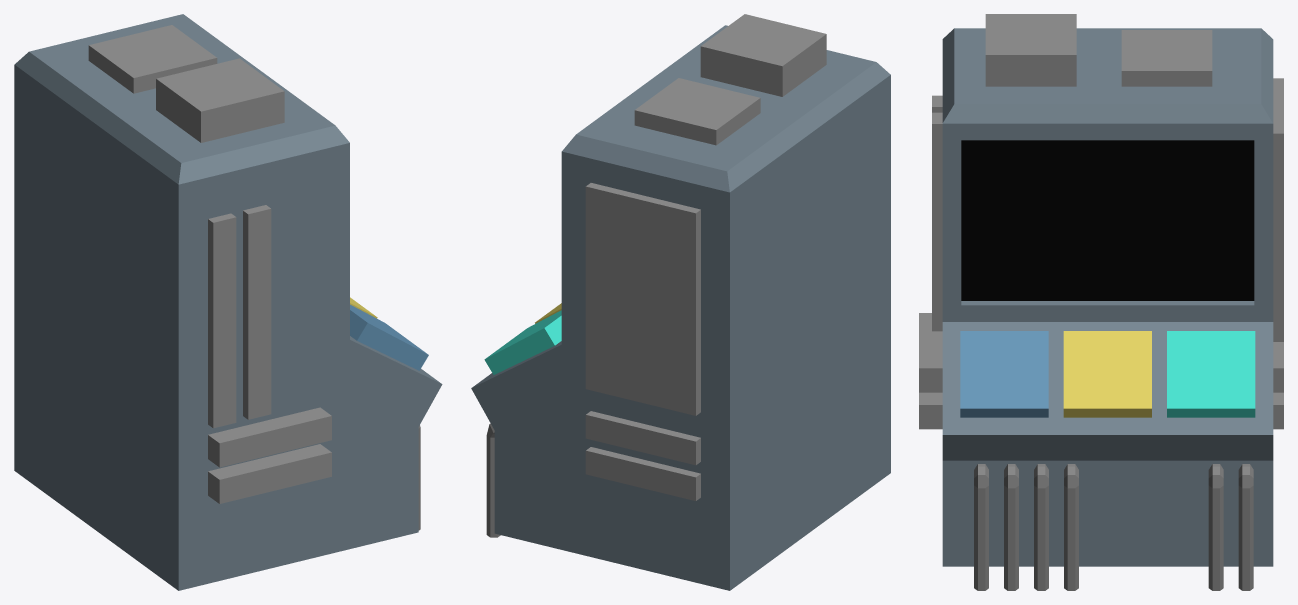
File: computer.fbx
The picture shows the model from 3 angles, left to right: view 1: azimuth 30°, elevation 25°; view 2: azimuth 150°, elevation 25°; view 3: azimuth 270°, elevation 25°; orthographic projection. The views are drawn at different scales.
Parts seen in each view (by area): view 1: Cube, Cube.010, Cube.009, Cube.007, Cube.008, Button1; view 2: Cube, Cube.004, Cube.005, Cube.006, Button3, Cylinder.001; view 3: Cube, Button2, Button1, Button3, Cylinder, Cylinder.001, Cube.004, Cube.009, Cube.007, Cube.008, Cube.005.
Boxes of the visible parts, box(x1,y1,x2,y2) form: Cube: box(14, 14, 442, 590); Cube.010: box(208, 213, 236, 428); Cube.009: box(243, 205, 271, 419); Cube.007: box(208, 407, 331, 467); Cube.008: box(208, 444, 331, 503); Button1: box(350, 304, 428, 370); Cube: box(471, 14, 890, 590); Cube.004: box(585, 183, 700, 415); Cube.005: box(585, 411, 700, 465); Cube.006: box(585, 447, 700, 500); Button3: box(484, 310, 561, 374); Cylinder.001: box(486, 423, 500, 537); Cube: box(942, 14, 1273, 566); Button2: box(1063, 331, 1151, 417); Button1: box(960, 331, 1048, 417); Button3: box(1167, 331, 1255, 417); Cylinder: box(974, 464, 1078, 590); Cylinder.001: box(1208, 464, 1253, 590); Cube.004: box(1273, 78, 1283, 341); Cube.009: box(932, 112, 942, 331); Cube.007: box(919, 313, 942, 392); Cube.008: box(919, 392, 942, 429); Cube.005: box(1273, 342, 1283, 392).
Size of the model in its own units: 267 by 453 by 318.
